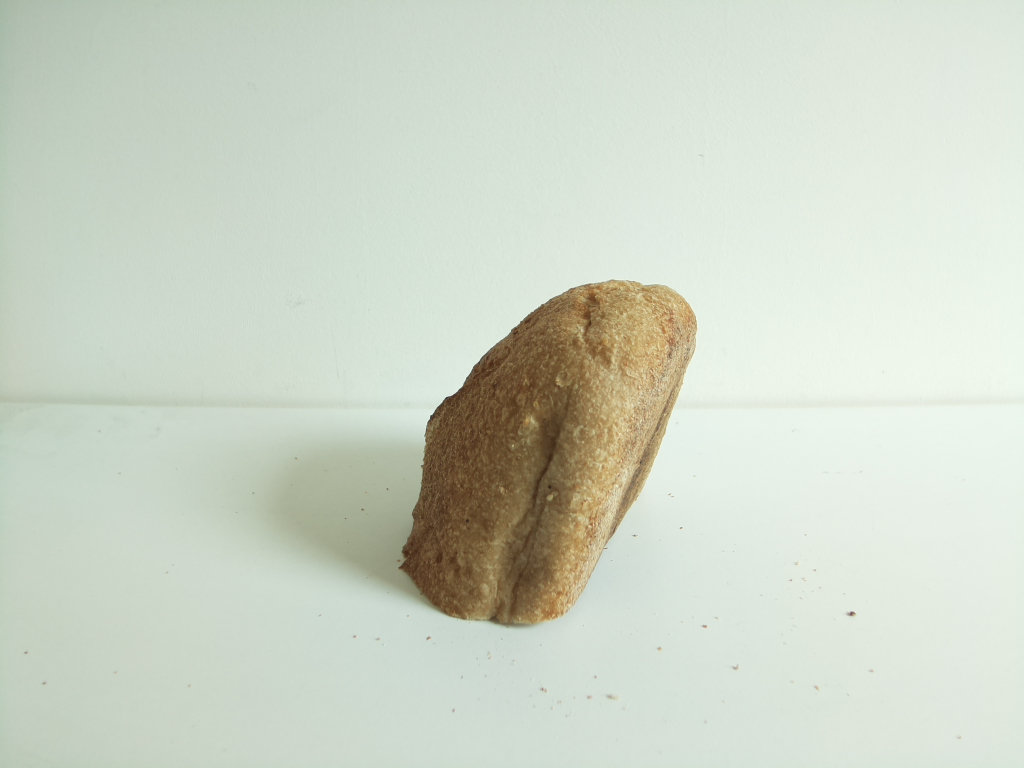bread: (398, 280, 698, 633)
